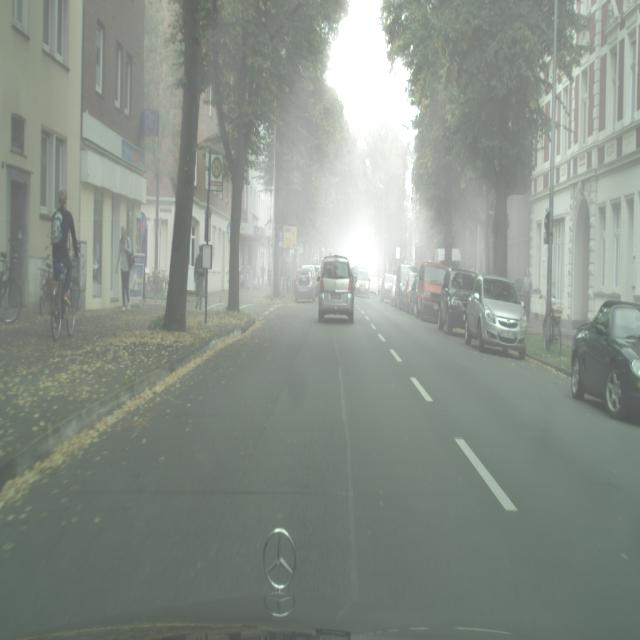car: (51, 261, 76, 341), (0, 252, 21, 326), (542, 304, 562, 355)
person: (51, 187, 79, 315), (115, 224, 135, 311), (194, 246, 205, 310), (521, 266, 532, 324)
truck: (570, 299, 640, 419), (464, 274, 528, 360), (437, 268, 477, 336), (318, 256, 355, 324), (416, 261, 449, 322), (392, 263, 412, 311), (294, 264, 318, 303), (379, 273, 396, 303), (354, 268, 371, 298), (408, 272, 419, 314)
